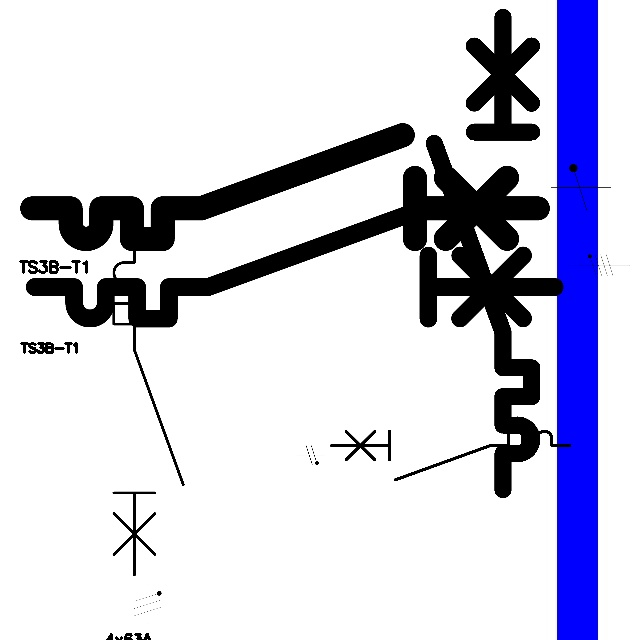interruptor_termomagnetico: (21, 198, 568, 332), (19, 122, 551, 252), (422, 5, 544, 502), (105, 228, 192, 584), (325, 425, 575, 486)
